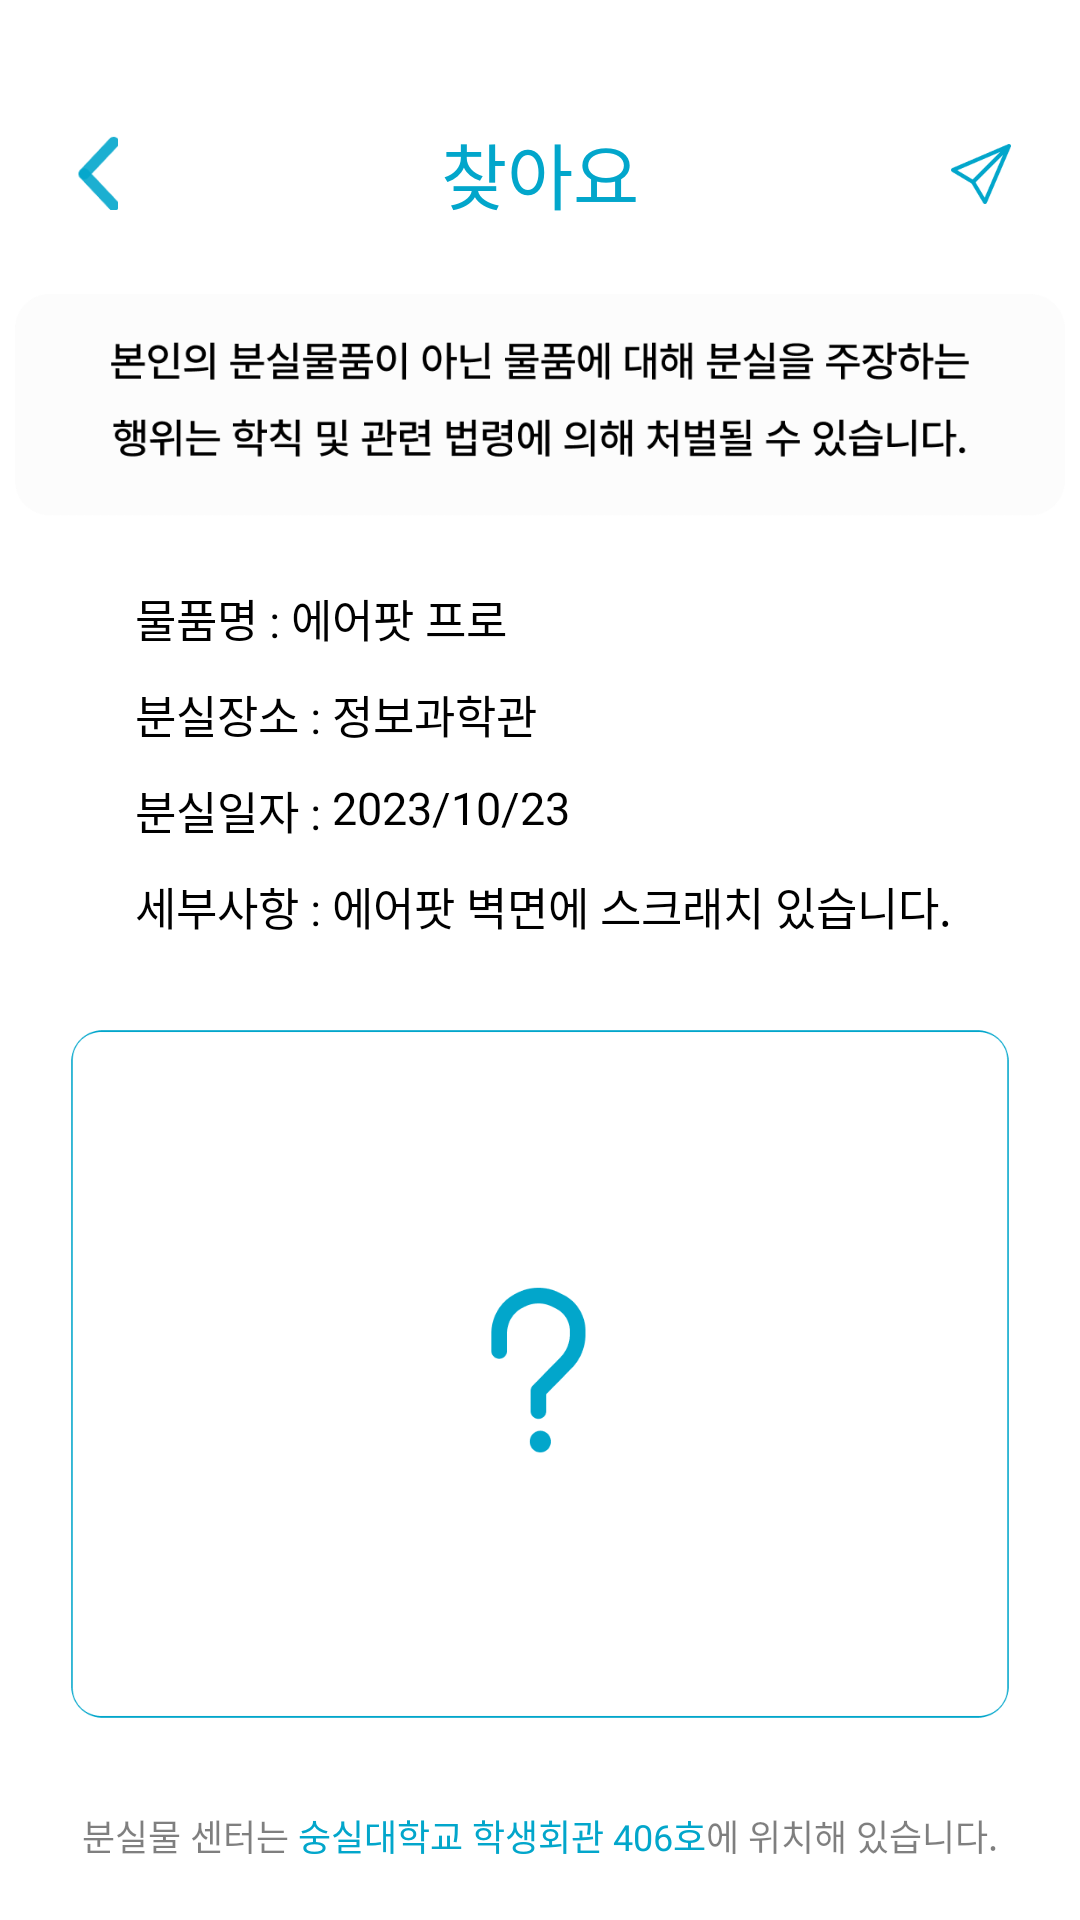

Named icons in this screenshot (1080x1920) and their centers, [x,y]:
back: [98,173]
